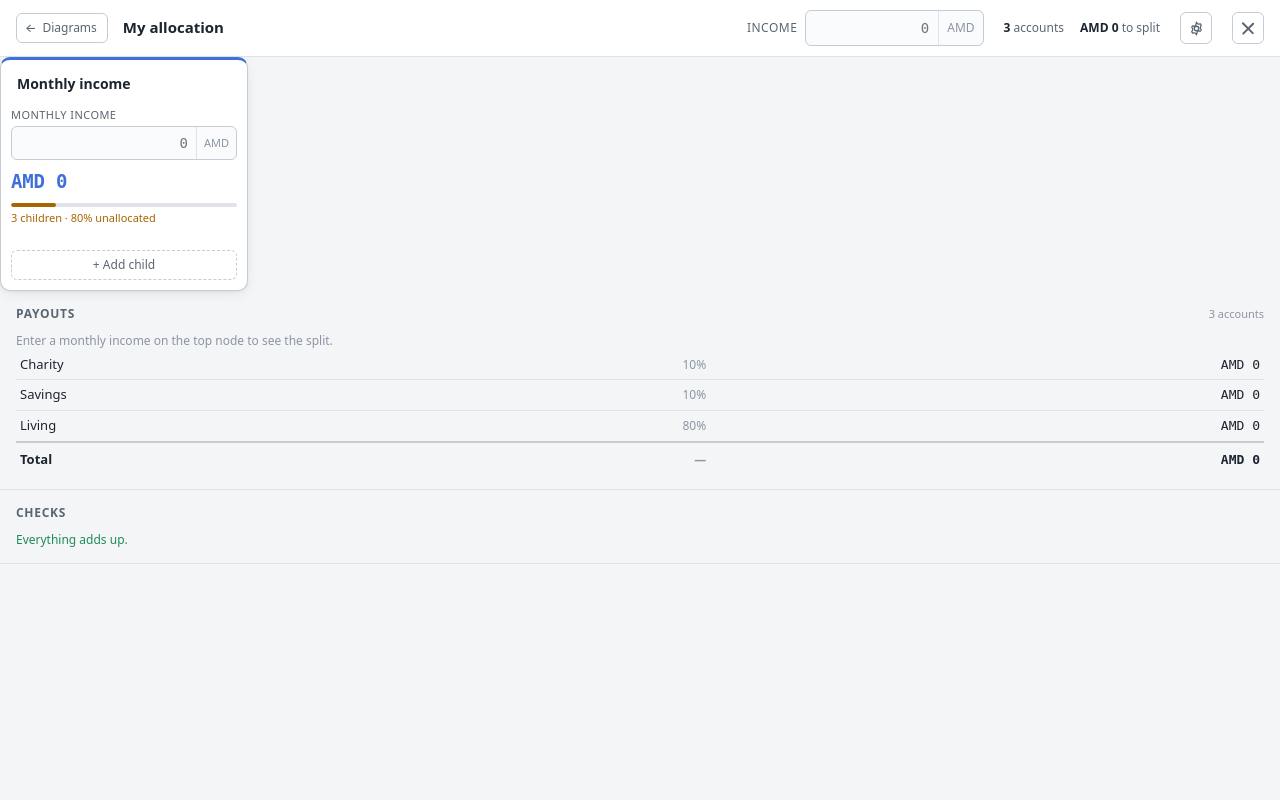
Scenario: the payout table › always balances to the income
Type "333333" into the field named "Monthly income". click: (872, 28)
box: [806,11,938,45]
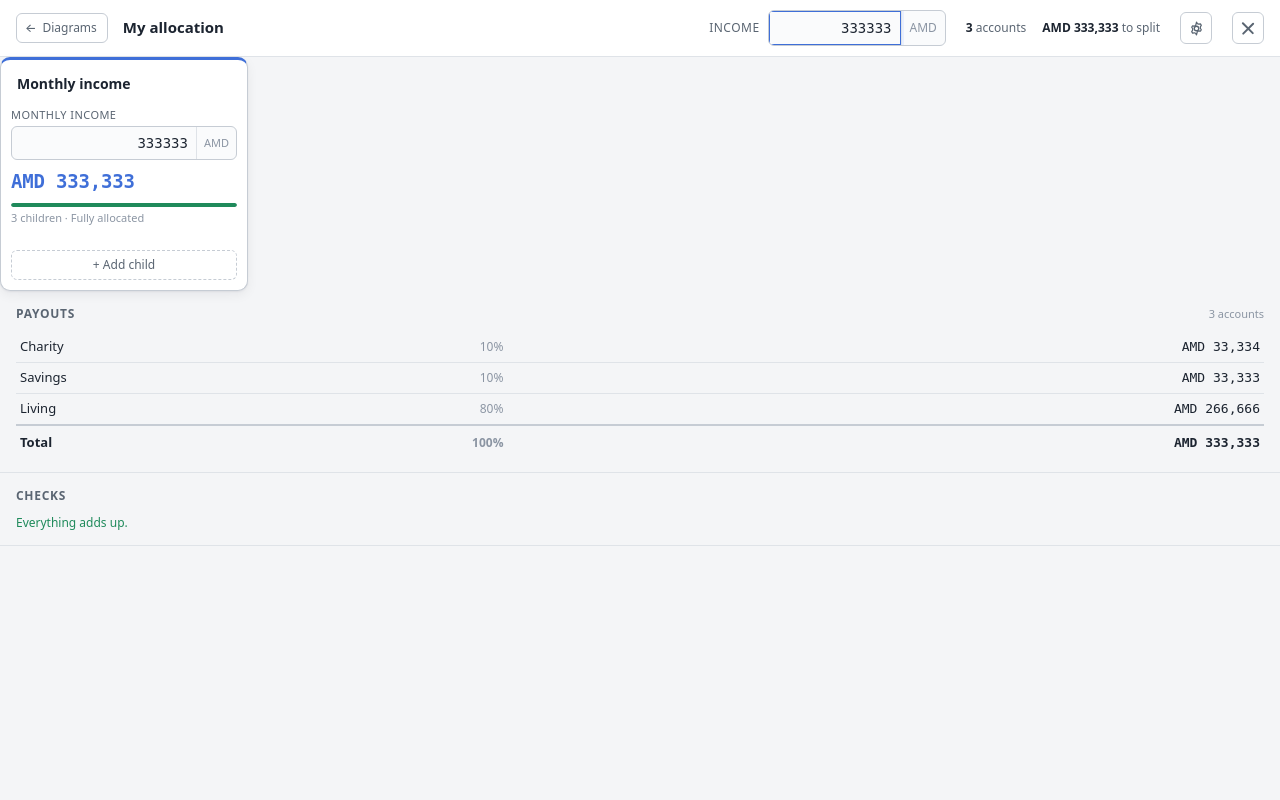
Now the text "AMD 333,333" is shown, box [508,425,1264,458]
